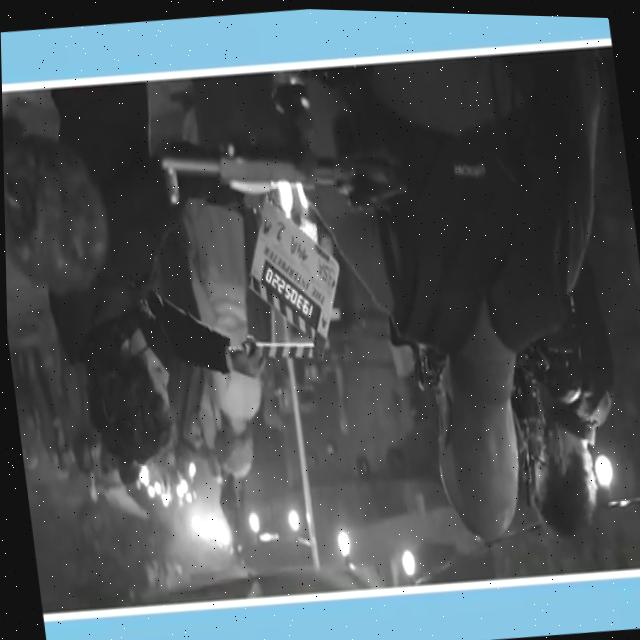Clapperboard: (224, 173, 353, 379)
